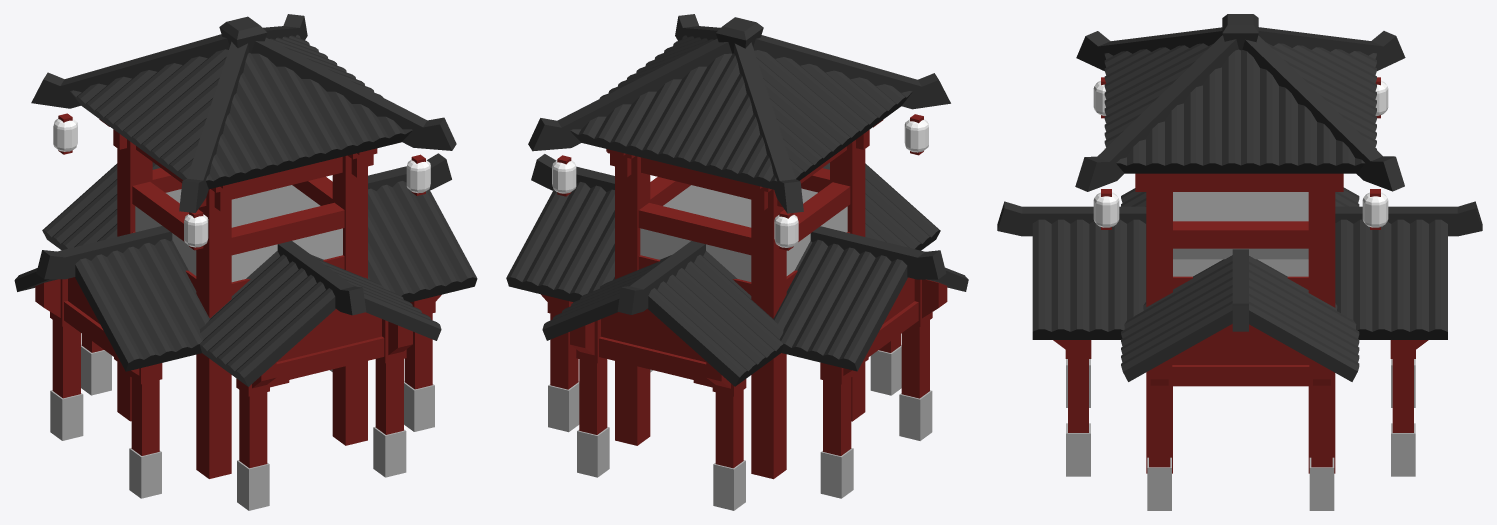
File: house with lantern.fbx
3 renders of one model, left to right at view 1: azimuth 30°, elevation 25°; view 2: azimuth 150°, elevation 25°; view 3: azimuth 270°, elevation 25°, orthographic. The views are drawn at different scales.
Parts seen in each view (by area): view 1: 立方体.1872, 立方体.1898, 立方体.1874, 立方体.1897, 立方体.1861, 立方体.1863, 立方体.1884, 立方体.1903, 立方体.1901, 立方体.1893, 立方体.1900, 立方体.1868 (+27 smaller); view 2: 立方体.1873, 立方体.1899, 立方体.1874, 立方体.1897, 立方体.1860, 立方体.1862, 立方体.1887, 立方体.1902, 立方体.1893, 立方体.1900, 立方体.1901, 立方体.1866 (+27 smaller); view 3: 立方体.1875, 立方体.1896, 立方体.1872, 立方体.1873, 立方体.1886, 立方体.1932, 立方体.1899, 立方体.1898, 立方体.1894, 立方体.1903, 立方体.1902, 立方体.1862 (+18 smaller).
Boxes of the visible parts, x1,y1,x2,y2 form: 立方体.1872: (75,181,477,371); 立方体.1898: (206,53,412,189); 立方体.1874: (42,162,335,386); 立方体.1897: (70,49,228,180); 立方体.1861: (178,177,240,478); 立方体.1863: (332,148,376,445); 立方体.1884: (270,309,384,384); 立方体.1903: (251,37,456,150); 立方体.1901: (31,34,229,108); 立方体.1893: (36,153,451,279); 立方体.1900: (179,41,248,212); 立方体.1868: (373,358,406,477); 立方体.1873: (506,181,907,371); 立方体.1899: (570,53,777,189); 立方体.1874: (647,163,940,386); 立方体.1897: (754,50,912,180); 立方体.1860: (742,177,804,479); 立方体.1862: (606,149,650,445); 立方体.1887: (599,309,712,384); 立方体.1902: (528,38,731,151); 立方体.1893: (531,154,946,279); 立方体.1900: (753,35,950,109); 立方体.1901: (734,42,803,213); 立方体.1866: (820,378,853,498); 立方体.1875: (1032,219,1447,339); 立方体.1896: (1116,49,1365,173); 立方体.1872: (1121,188,1232,381); 立方体.1873: (1249,187,1359,381); 立方体.1886: (1172,324,1309,386); 立方体.1932: (1173,192,1308,259); 立方体.1899: (1266,42,1376,149); 立方体.1898: (1104,43,1212,148); 立方体.1894: (997,201,1482,236); 立方体.1903: (1075,35,1238,191); 立方体.1902: (1242,35,1404,191); 立方体.1862: (1308,173,1335,473).
Size of what is drawn, in the model's own units: 299 by 284 by 299.
